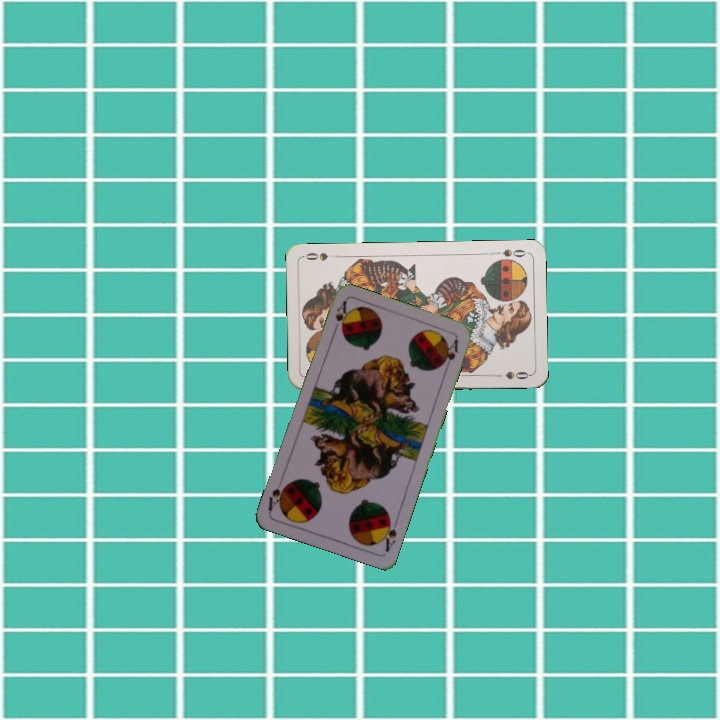SA: (377, 512, 399, 554), (329, 297, 349, 337)
SO: (489, 245, 528, 260)
